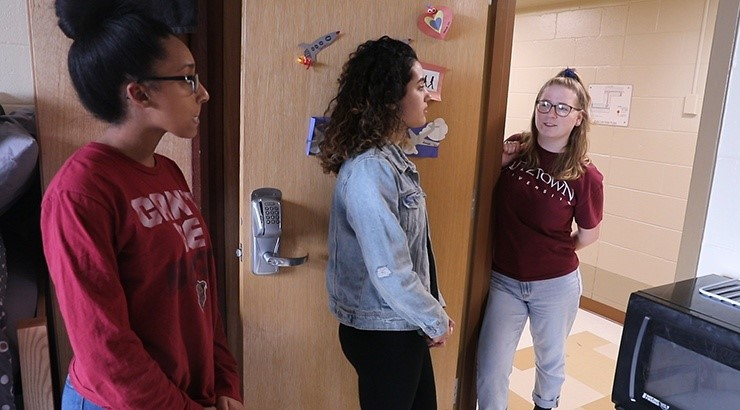face_no_mask: (106, 28, 208, 142), (348, 39, 431, 131), (528, 72, 581, 145)
